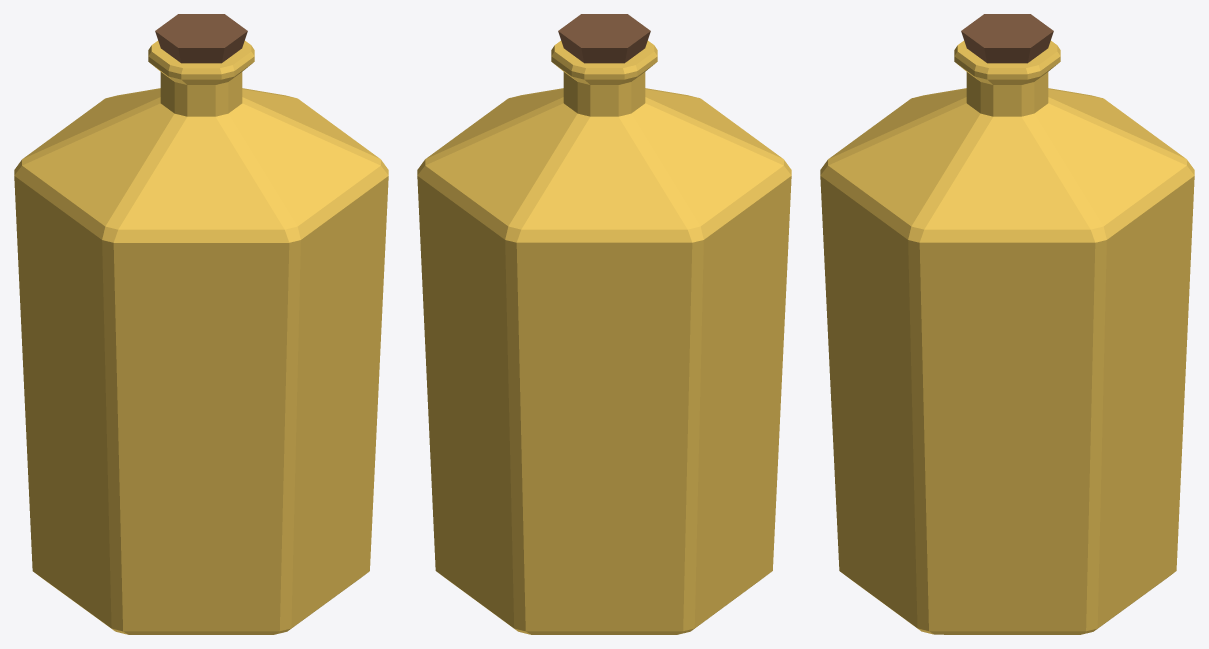
The model's file is Potion_02_Yellow.fbx.
3 renders of one model, left to right at view 1: azimuth 30°, elevation 25°; view 2: azimuth 150°, elevation 25°; view 3: azimuth 270°, elevation 25°, orthographic.
Visible parts, largest first — view 1: Cone.009, Cylinder.027, Cylinder.026; view 2: Cone.009, Cylinder.027, Cylinder.026; view 3: Cone.009, Cylinder.027, Cylinder.026.
Boxes of the visible parts, x1,y1,x2,y2 form: Cone.009: (14,88,388,634); Cylinder.027: (148,40,254,116); Cylinder.026: (155,14,247,63); Cone.009: (417,88,791,634); Cylinder.027: (551,40,657,116); Cylinder.026: (558,14,650,63); Cone.009: (820,88,1194,634); Cylinder.027: (954,40,1060,116); Cylinder.026: (961,14,1053,63).
Size of the model in its own units: 14.97 by 27.16 by 16.94.
